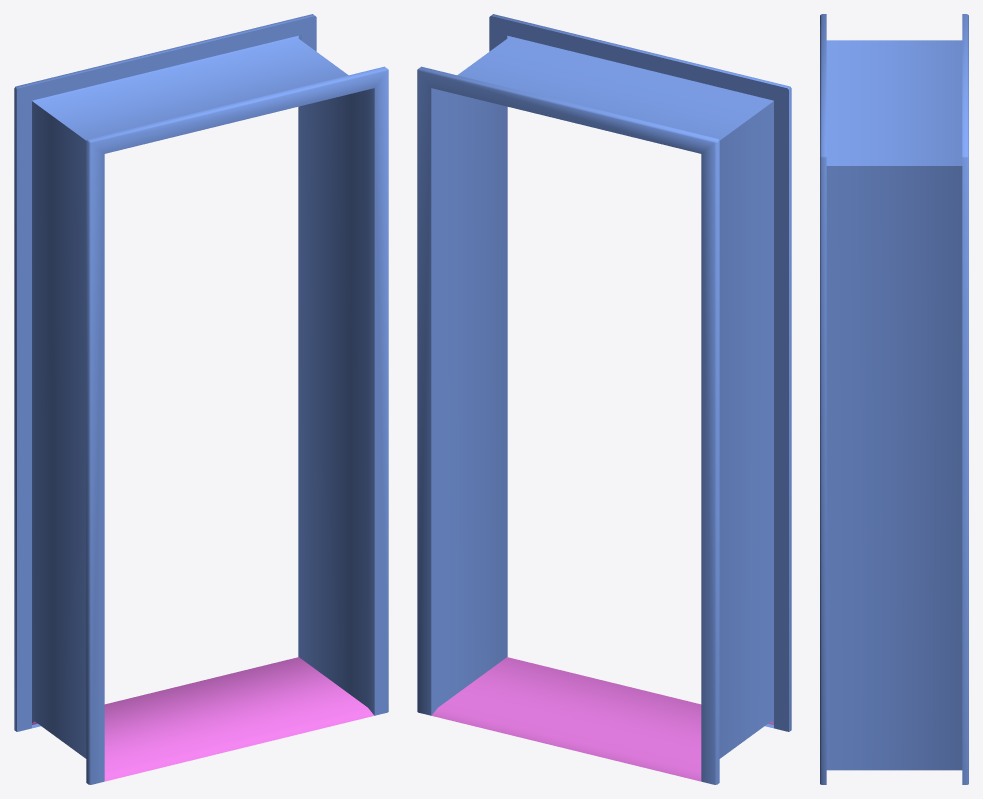
Rendered from DoorFrame.fbx.
3 renders of one model, left to right at view 1: azimuth 30°, elevation 25°; view 2: azimuth 150°, elevation 25°; view 3: azimuth 270°, elevation 25°, orthographic. The views are drawn at different scales.
Visible parts, largest first — view 1: DoorFrame1m; view 2: DoorFrame1m; view 3: DoorFrame1m.
Boxes of the visible parts, x1=… form: DoorFrame1m: x1=14, y1=14, x2=388, y2=784; DoorFrame1m: x1=417, y1=14, x2=791, y2=784; DoorFrame1m: x1=820, y1=14, x2=968, y2=784.
Size of the model in its own units: 100 by 205 by 44.
